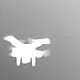plane: (1, 34, 53, 67)
